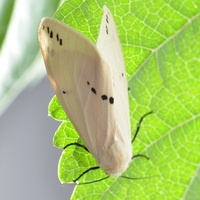insect: (38, 5, 131, 176)
